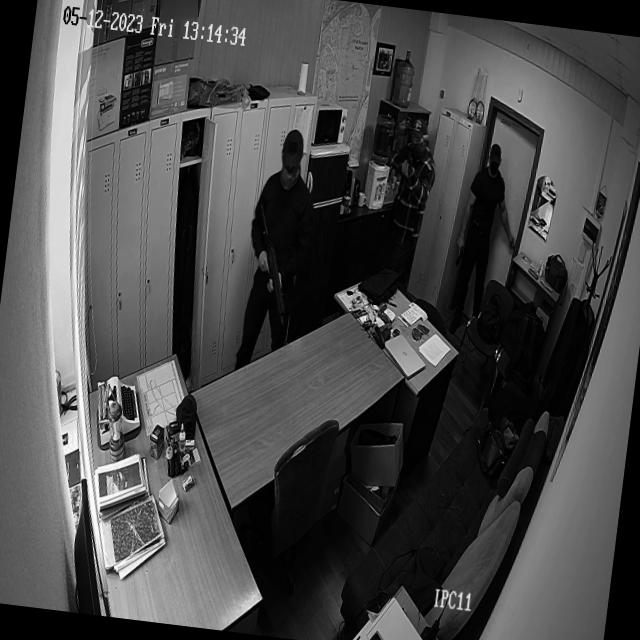gun: (244, 202, 298, 326), (402, 150, 417, 180), (454, 240, 465, 267)
person with a gun: (236, 125, 318, 352), (448, 140, 514, 318), (378, 118, 436, 282)
